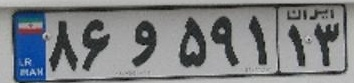character: (123, 15, 168, 69), (78, 18, 119, 76), (173, 13, 210, 72), (210, 13, 244, 73), (46, 16, 80, 73), (312, 19, 344, 70), (246, 10, 271, 68), (284, 22, 310, 68)
